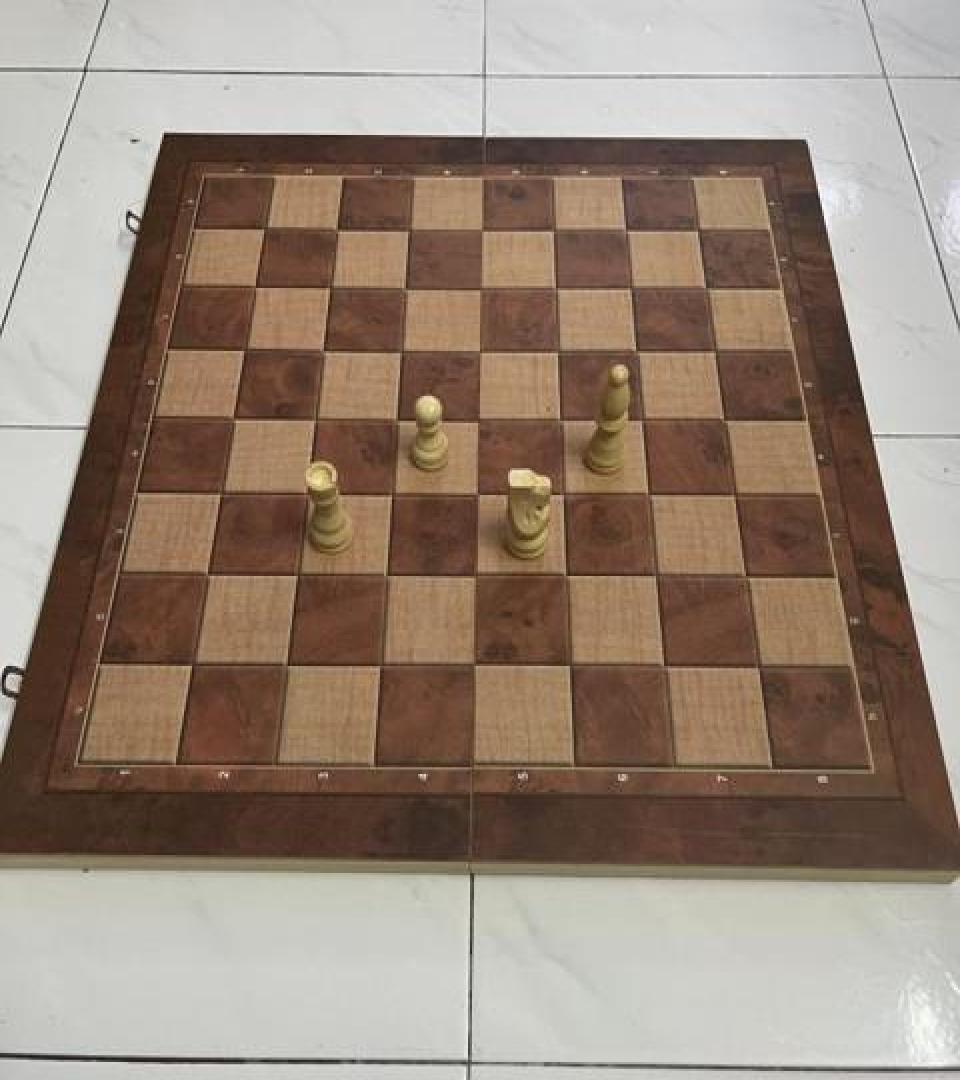xcorner: (626, 400, 660, 439), (545, 400, 579, 439), (683, 212, 717, 250), (611, 210, 645, 248), (538, 210, 572, 248), (466, 210, 500, 248), (394, 210, 428, 248), (321, 208, 355, 246), (249, 208, 283, 246), (691, 269, 725, 307), (616, 269, 650, 307), (540, 269, 574, 307), (465, 268, 499, 306), (390, 268, 424, 306), (314, 267, 348, 305), (239, 267, 273, 305), (699, 333, 733, 371), (621, 332, 655, 370), (542, 332, 576, 370), (464, 331, 498, 369), (386, 331, 420, 369), (307, 330, 341, 368), (229, 330, 263, 368), (708, 402, 742, 440), (463, 400, 497, 438), (381, 400, 415, 438), (299, 400, 333, 438), (217, 398, 251, 436), (718, 477, 752, 515), (633, 476, 667, 514), (547, 476, 581, 514), (462, 475, 496, 513), (376, 475, 410, 513), (291, 474, 325, 512), (205, 474, 239, 512), (729, 559, 763, 597), (639, 558, 673, 596), (550, 558, 584, 596), (460, 557, 494, 595), (371, 557, 405, 595), (281, 556, 315, 594), (191, 556, 225, 594), (741, 649, 775, 687), (647, 648, 681, 686), (553, 648, 587, 686), (459, 647, 493, 685), (365, 647, 399, 685), (271, 647, 305, 685), (176, 646, 210, 684)
